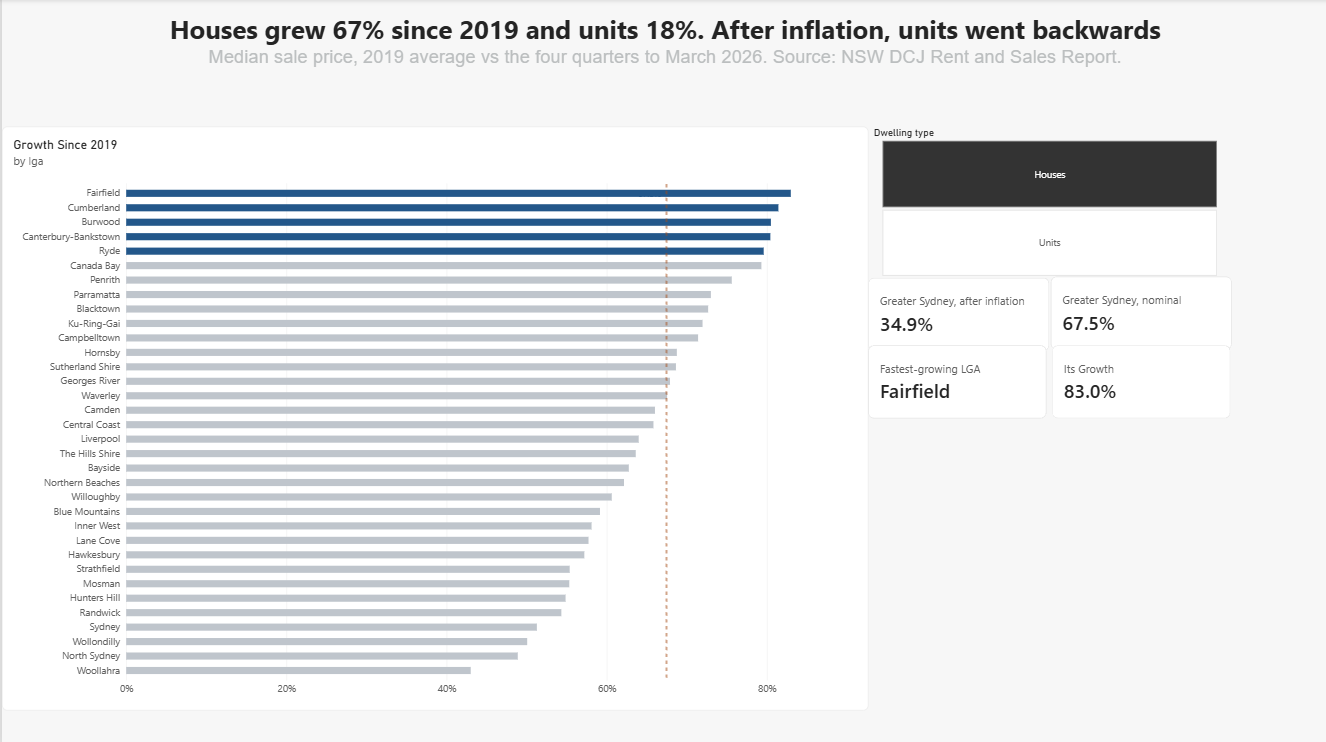

Layout of this report page (visuals, bound fields, positions):
{"tool":"powerbi","page":{"name":"The answer","canvas":[1920,1080],"ordinal":0},"visuals":[{"type":"slicer","fields":{"Values":["dim_dwelling.dwelling_label"]},"box":[1254.5,185.5,523.6,218.2],"z":0},{"type":"clusteredBarChart","fields":{"Category":["dim_lga.lga"],"Y":["_Measures.Growth Since 2019"]},"box":[0,185.5,1254.5,845.5],"z":1000},{"type":"cardVisual","fields":{"Data":["_Measures.Greater Sydney Growth"]},"box":[1518.2,401.8,262.4,106.8],"z":2000},{"type":"cardVisual","fields":{"Data":["_Measures.Greater Sydney Real Growth"]},"box":[1254.5,403.6,262.4,106.8],"z":3000},{"type":"cardVisual","fields":{"Data":["_Measures.Fastest LGA","_Measures.Fastest Growth"]},"box":[1254.5,501.8,524.8,106.8],"z":4000},{"type":"textbox","box":[0,0,1920.1,184.6],"z":5000}]}

Visuals, with their boxes in screenshot pixels (x1, y1, x2, y2), scaled from the page's 1920x1080 canvas onto the 1326x742 screenshot:
slicer - dim_dwelling.dwelling_label: {"x1": 866, "y1": 127, "x2": 1228, "y2": 277}
clusteredBarChart - dim_lga.lga x _Measures.Growth Since 2019: {"x1": 0, "y1": 127, "x2": 866, "y2": 708}
cardVisual - _Measures.Greater Sydney Growth: {"x1": 1049, "y1": 276, "x2": 1230, "y2": 349}
cardVisual - _Measures.Greater Sydney Real Growth: {"x1": 866, "y1": 277, "x2": 1048, "y2": 351}
cardVisual - _Measures.Fastest LGA x _Measures.Fastest Growth: {"x1": 866, "y1": 345, "x2": 1229, "y2": 418}
textbox: {"x1": 0, "y1": 0, "x2": 1325, "y2": 127}
